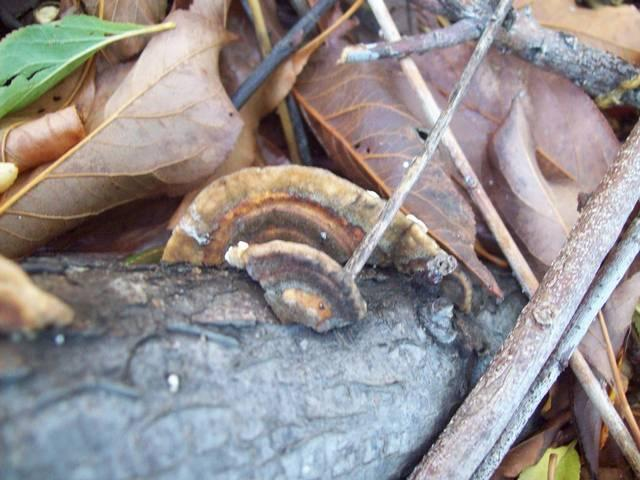poisonous_mushroom: (159, 162, 458, 334)
